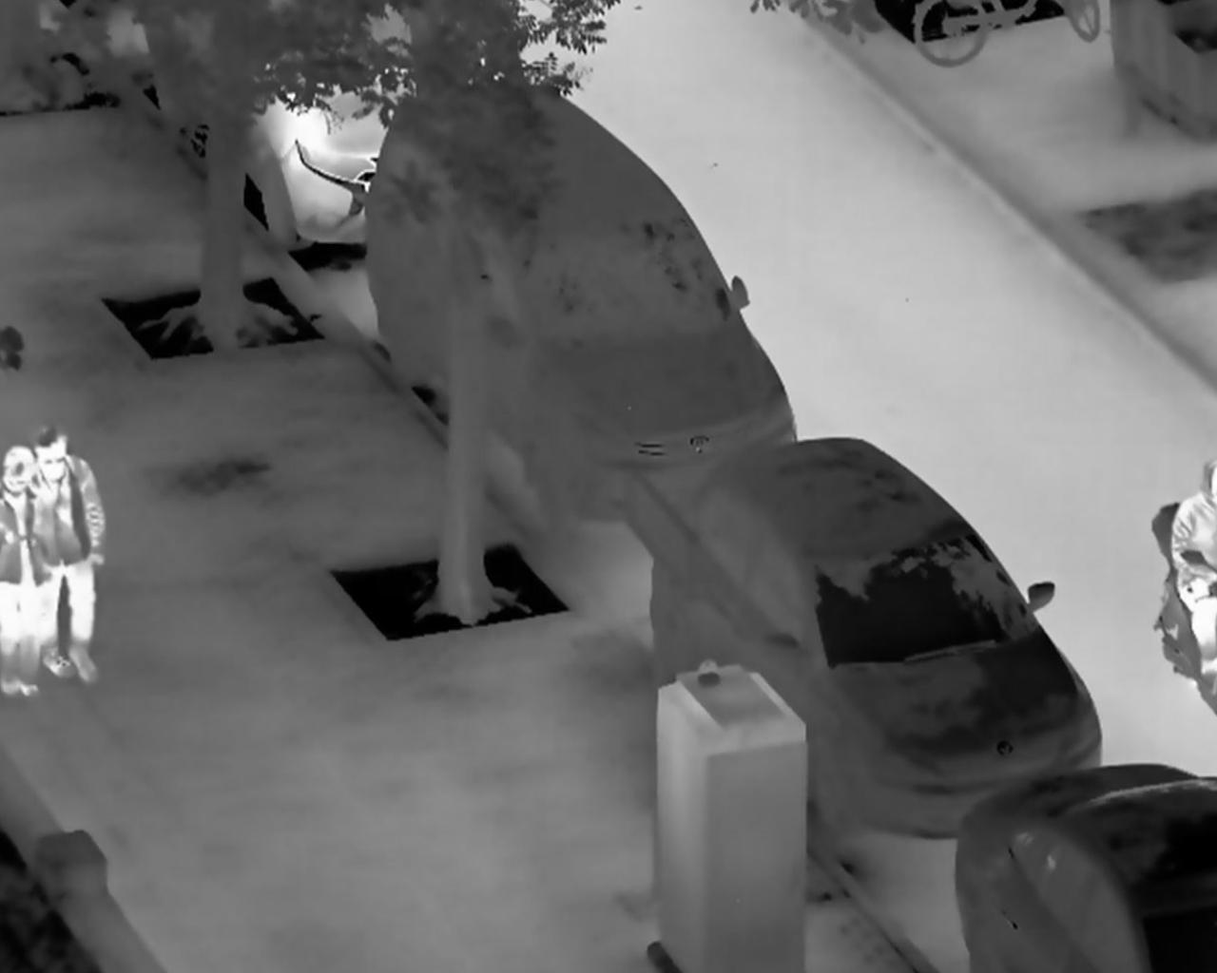person: (34, 432, 106, 685), (2, 446, 52, 700)
